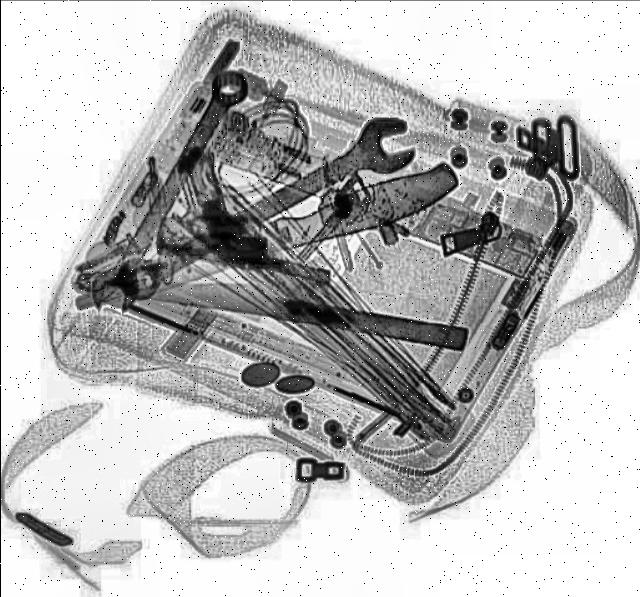Gun: (150, 142, 350, 278)
Knife: (124, 157, 462, 301), (106, 260, 468, 348)
Wrench: (100, 104, 428, 314), (78, 63, 256, 317)
